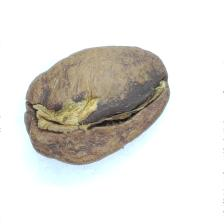NG: (33, 55, 167, 133)
